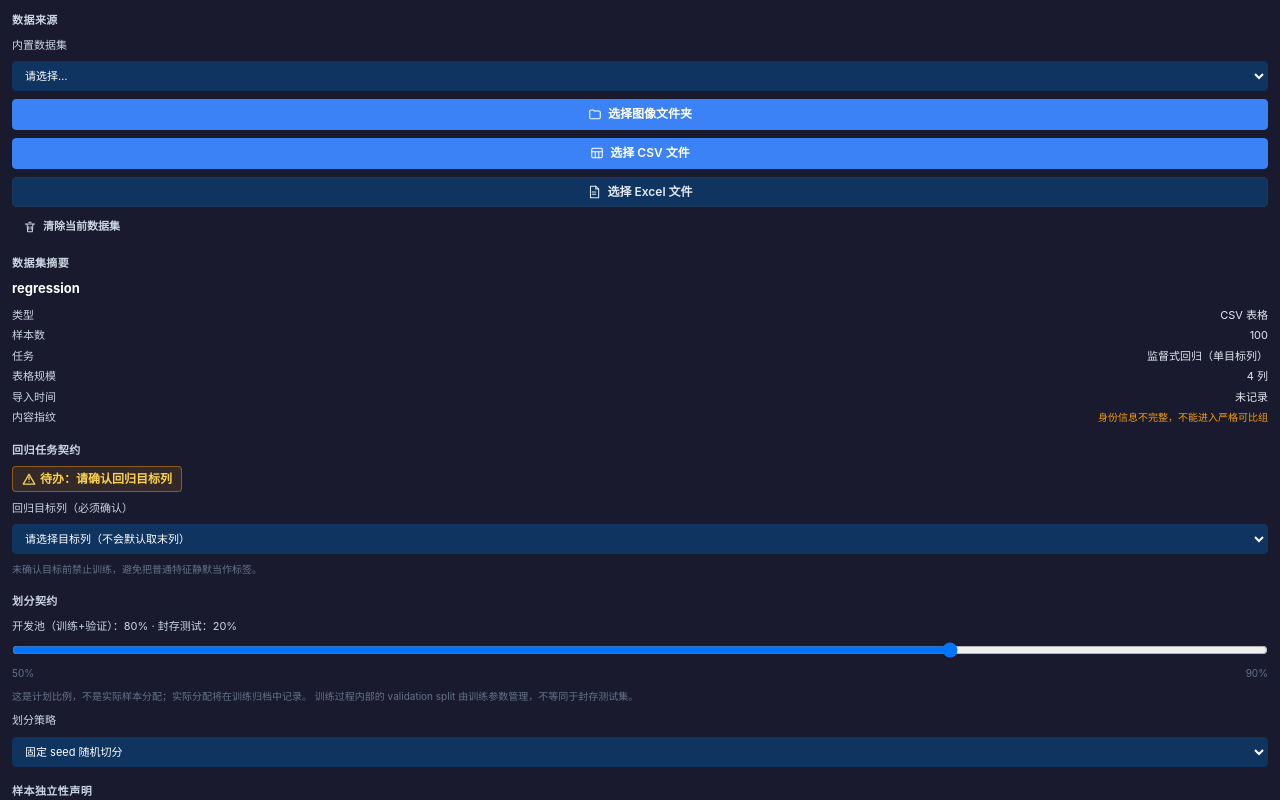
it: 数据集工作台：CSV 回归任务契约 › 25. 目标列选择正确保存并显示确认状态
Select "target" in the dropdown labelled "回归目标列": (640, 539) [12,524,1268,554]
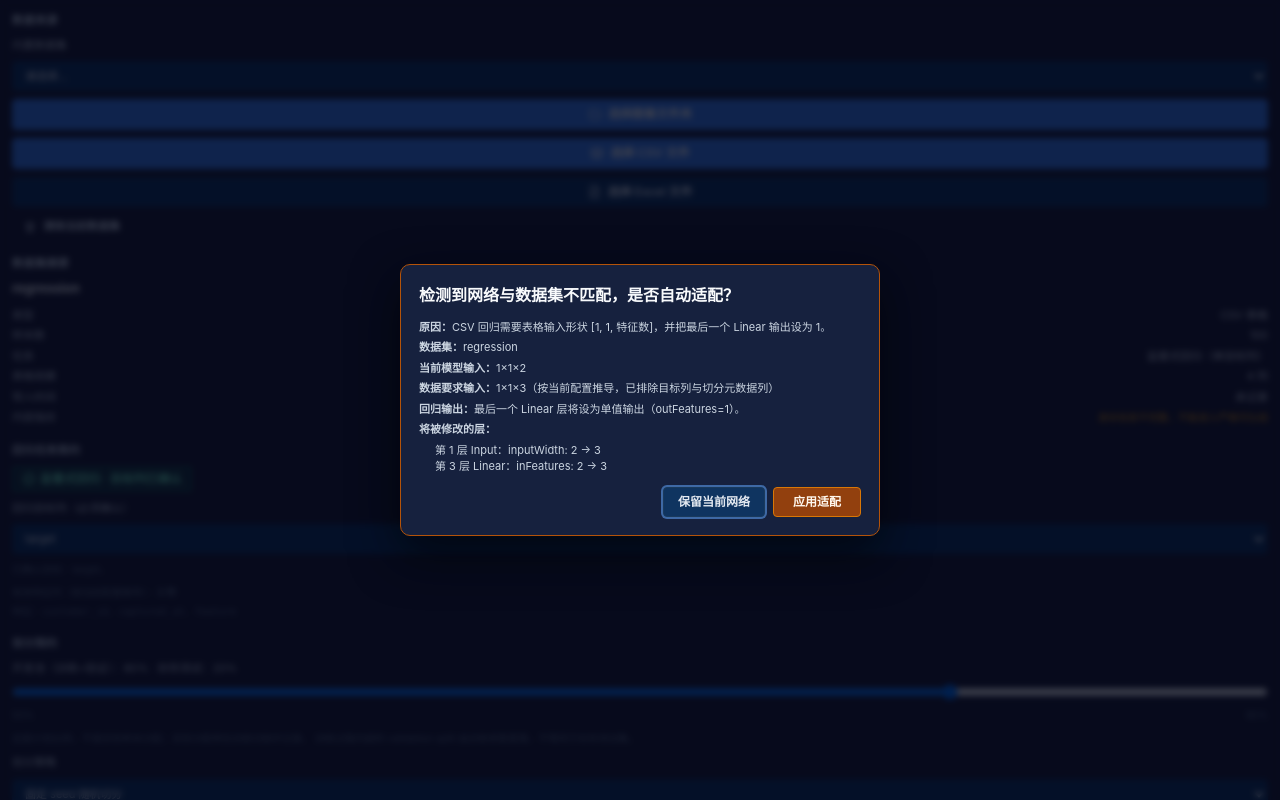
Expected: the text "监督式回归 · 目标列已确认" is shown, [40,470,182,488]
